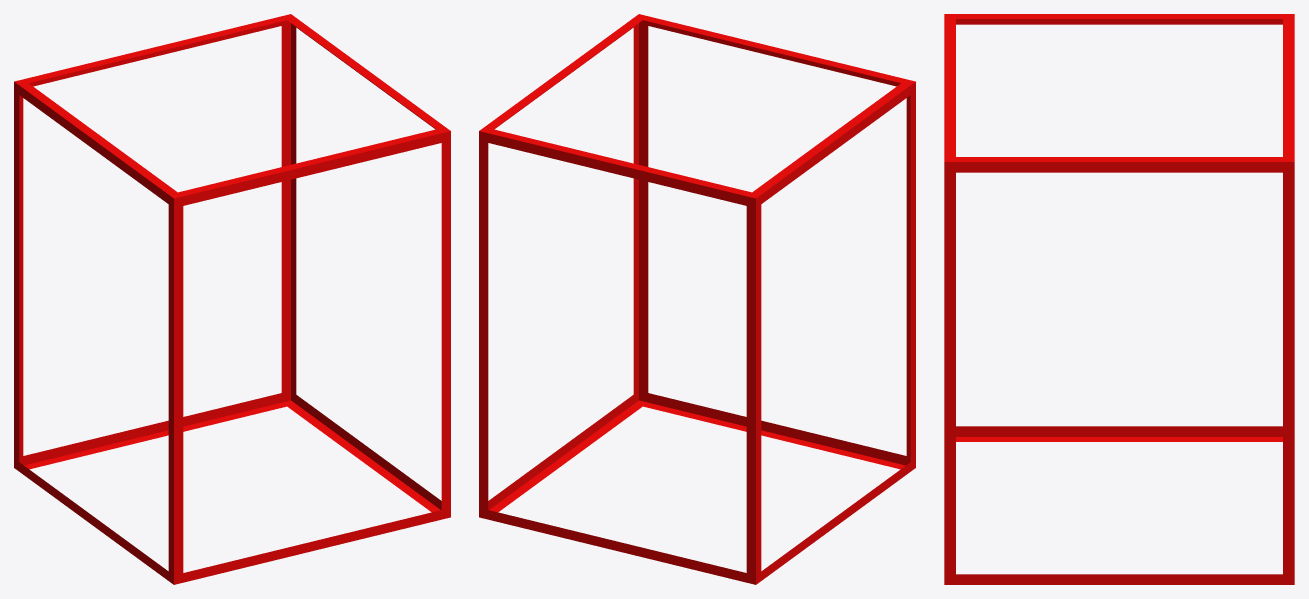
File: testhighlightbox.glb
3 views of the same model, side by side, from view 1: azimuth 30°, elevation 25°; view 2: azimuth 150°, elevation 25°; view 3: azimuth 270°, elevation 25° (orthographic). The views are drawn at different scales.
Visible parts, largest first — view 1: Plane; view 2: Plane; view 3: Plane.
Boxes of the visible parts, x1,y1,x2,y2 form: Plane: (14,14,450,584); Plane: (479,14,915,584); Plane: (944,14,1294,584).
Size of the model in its own units: 1.5 by 2 by 1.5.
